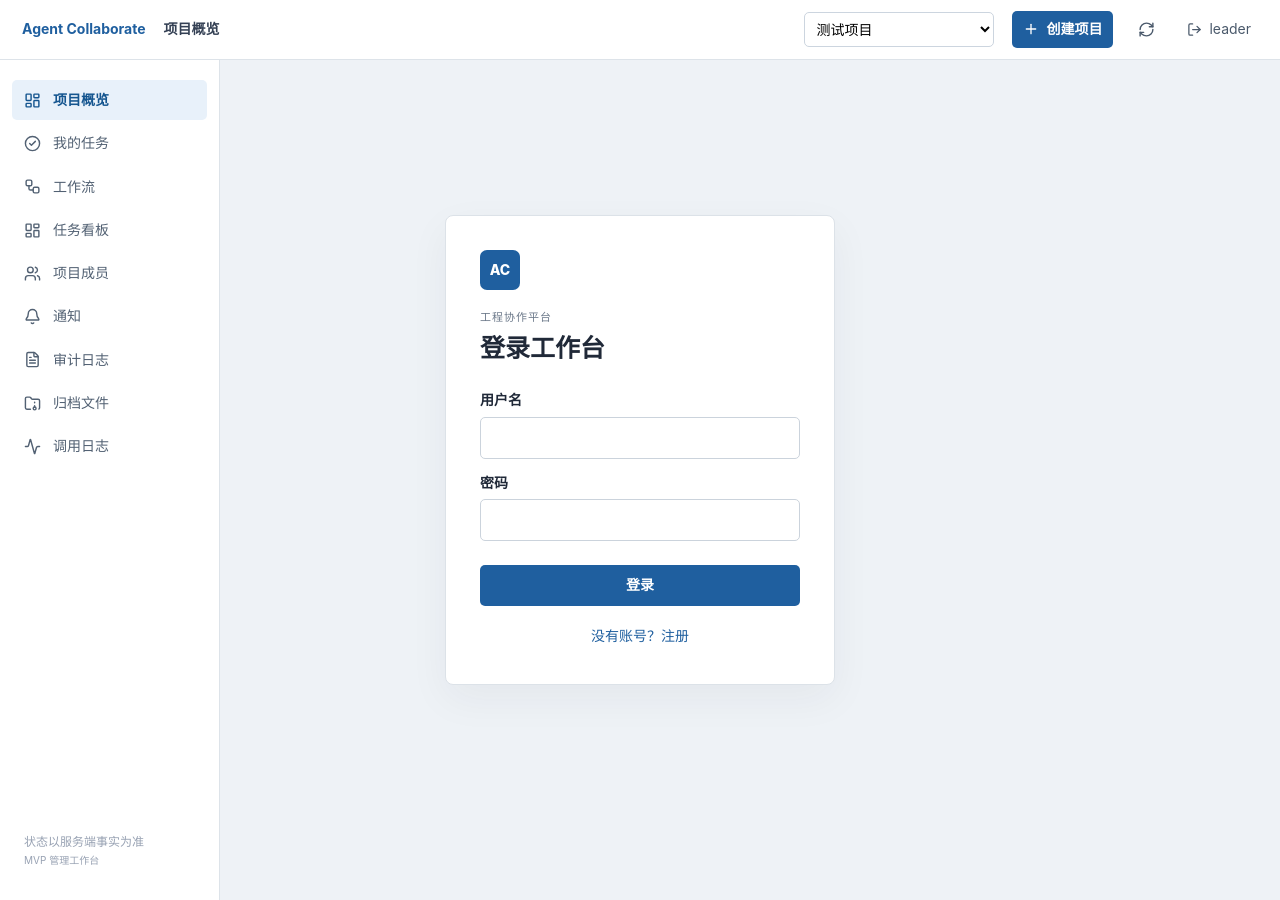
Test case: project-scoped navigation › restores an active Design run when re-entering workflow details
Click the button "工作流" at (110, 187), box [12,167,207,207]
(page scrolled)
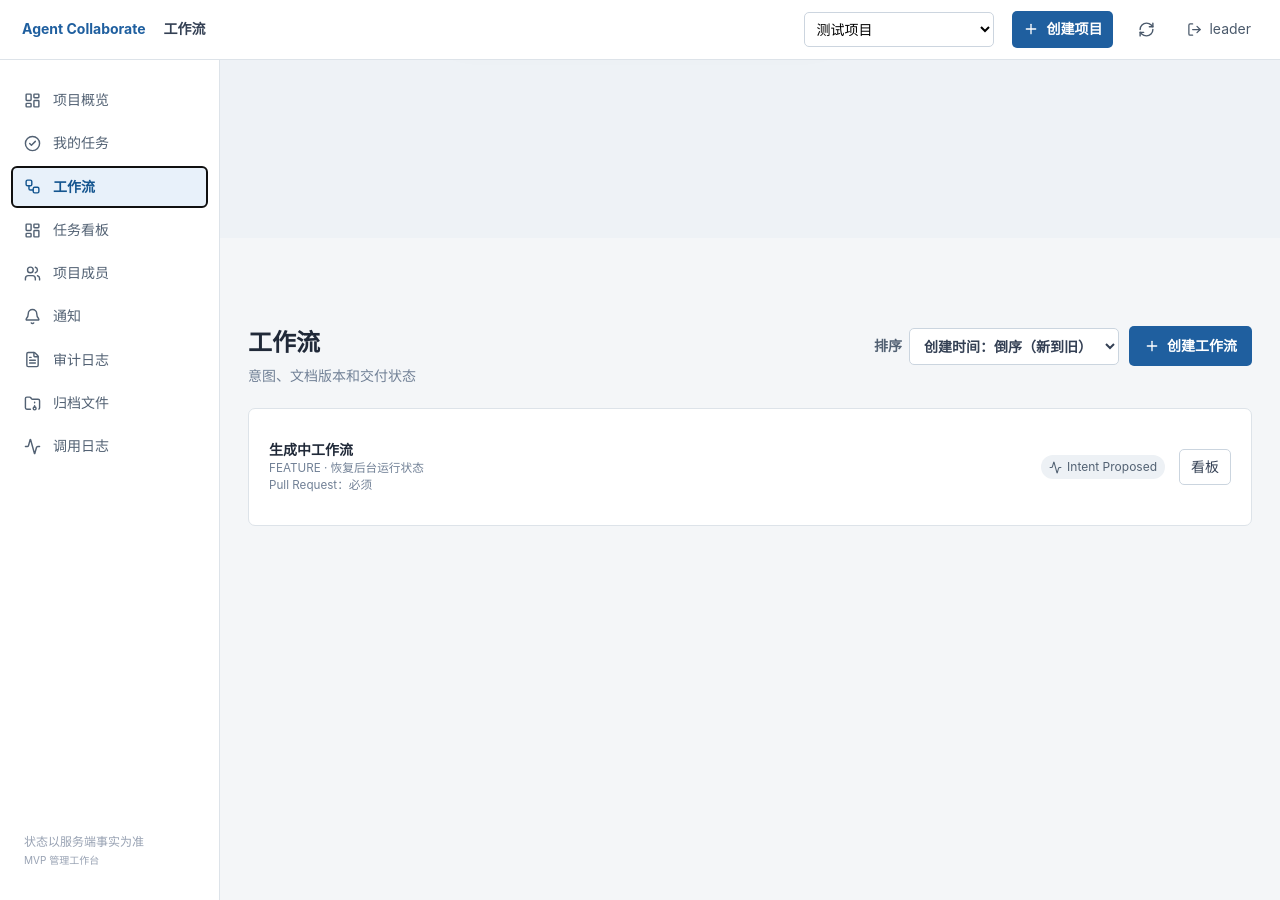
Click the text "生成中工作流" at (311, 450), box [269,441,353,458]
(page scrolled)
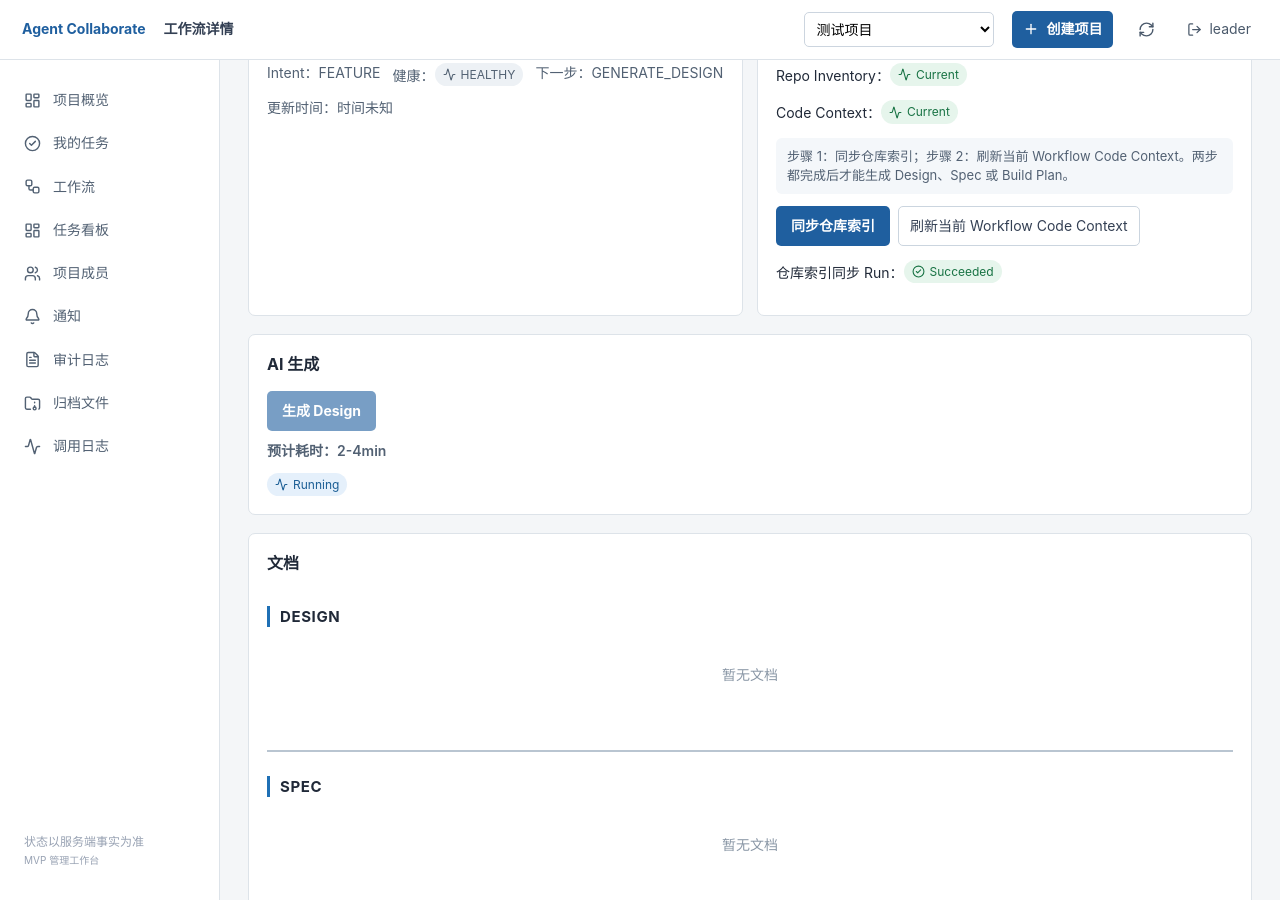
Expected: the button "生成 Design" is disabled, [267,390,376,431]
Expected: the text "Running" is shown, [267,473,347,496]
Expected: the text "预计耗时：2-4min" is shown, [267,441,386,461]
